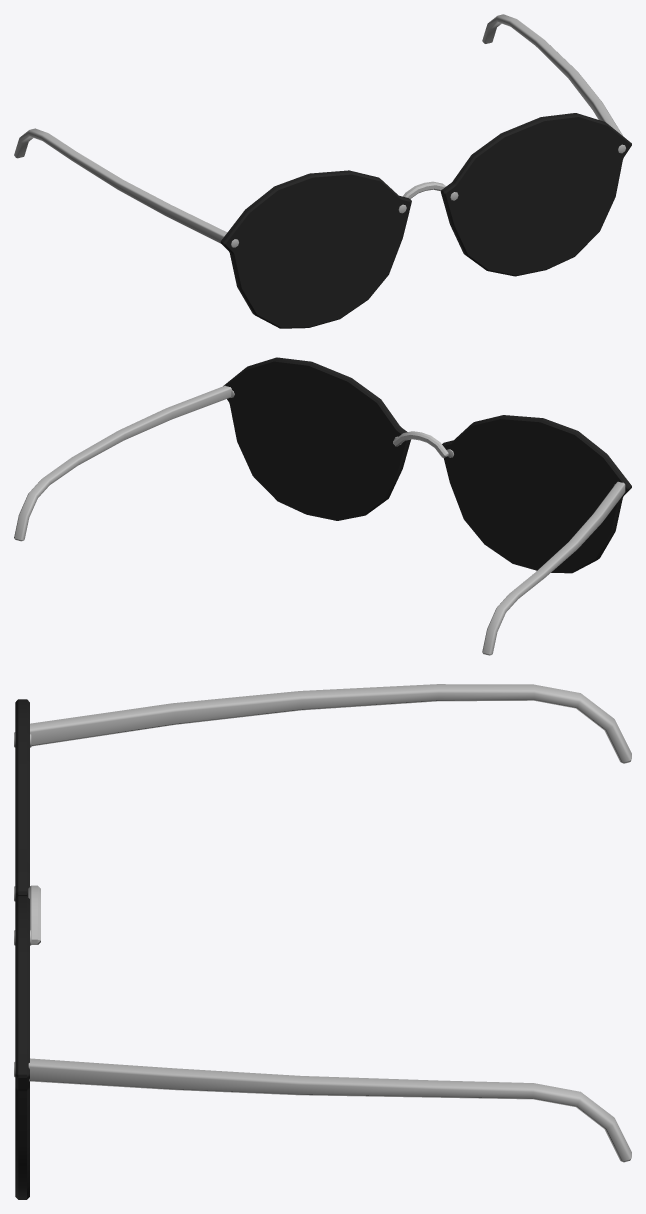
Rendered from Glasses_002.glb.
3 views of the same model, one above another, from view 1: azimuth 30°, elevation 25°; view 2: azimuth 150°, elevation 25°; view 3: azimuth 270°, elevation 25° (orthographic). The views are drawn at different scales.
Visible parts, largest first — view 1: Glasses_002; view 2: Glasses_002; view 3: Glasses_002.
Part boxes in pixels (<box>): Glasses_002: <box>14,14,631,328</box>; Glasses_002: <box>14,357,631,655</box>; Glasses_002: <box>14,684,631,1199</box>.
Size of the model in its own units: 0.4289 by 0.1305 by 0.2757.
1 material, 1 textured.
